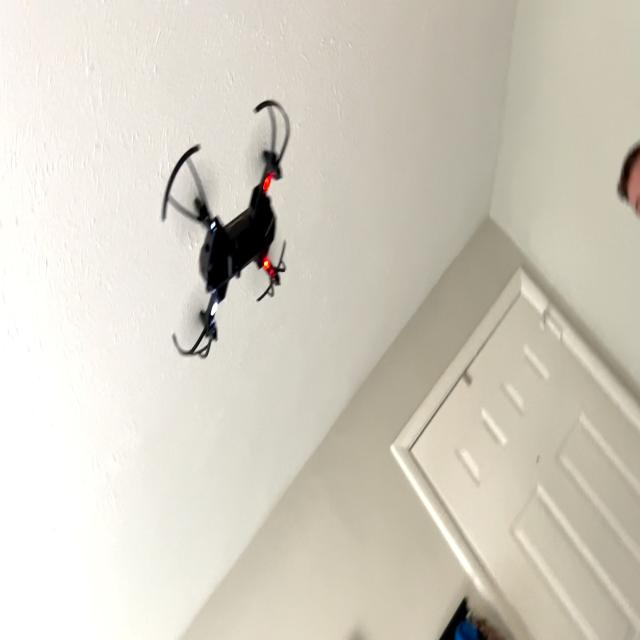drone: (148, 79, 306, 378)
